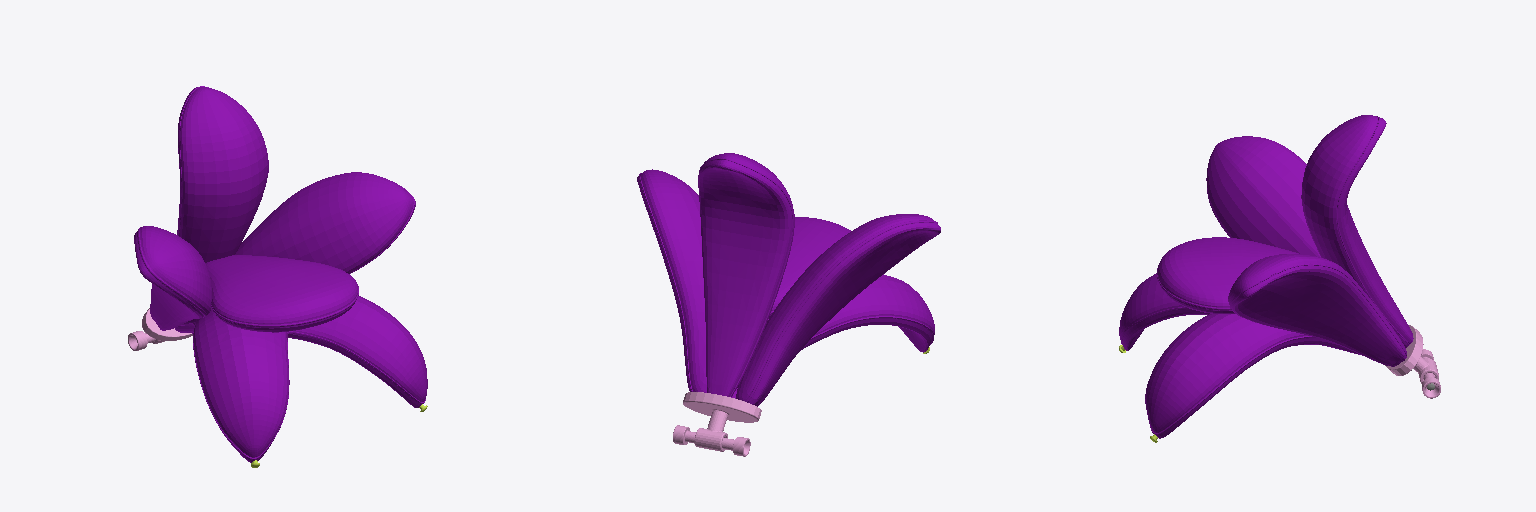
The picture shows the model from 3 angles: view 1: azimuth 30°, elevation 25°; view 2: azimuth 150°, elevation 25°; view 3: azimuth 270°, elevation 25°; orthographic projection.
Visible parts, largest first — view 1: Arch26_013_Obj_07, Arch26_013_Obj_01; view 2: Arch26_013_Obj_07, Arch26_013_Obj_01, Arch26_013_Obj_02; view 3: Arch26_013_Obj_07, Arch26_013_Obj_01.
Part boxes in pixels (x1,y1,x2,y2): Arch26_013_Obj_07: (134, 86, 427, 462); Arch26_013_Obj_01: (142, 308, 192, 343); Arch26_013_Obj_07: (637, 153, 940, 406); Arch26_013_Obj_01: (683, 392, 761, 451); Arch26_013_Obj_02: (673, 425, 750, 456); Arch26_013_Obj_07: (1119, 115, 1413, 438); Arch26_013_Obj_01: (1385, 325, 1438, 383).
Size of the model in its own units: 20.94 by 18.83 by 20.3.